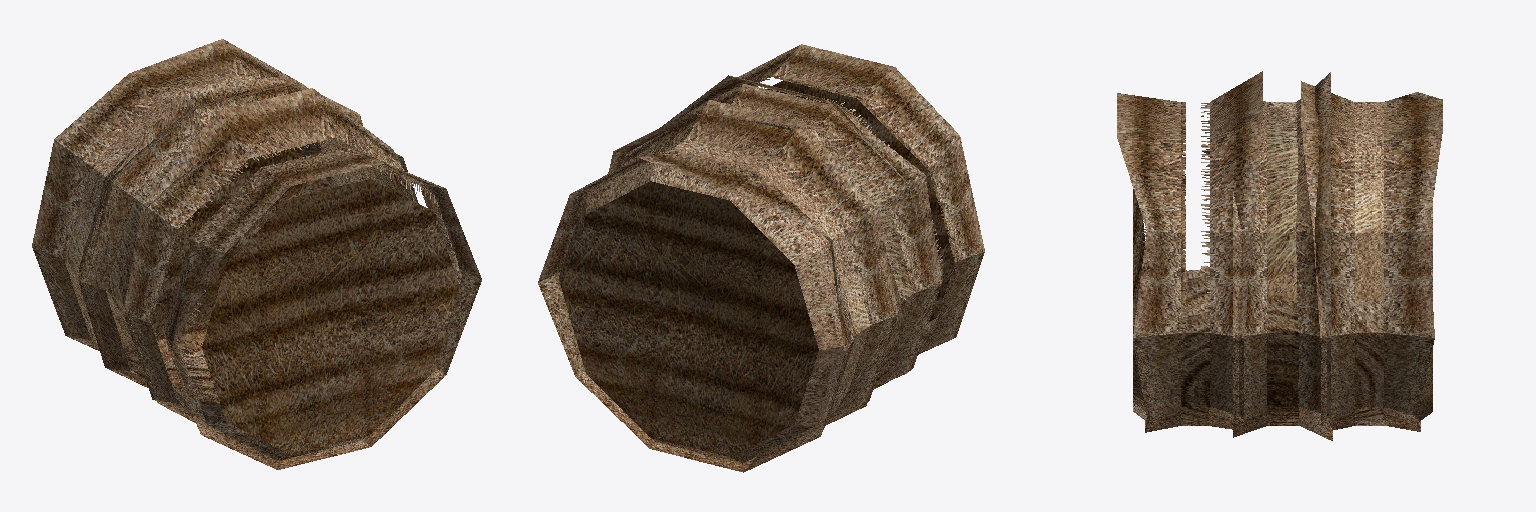
3 views of the same model, side by side, from view 1: azimuth 30°, elevation 25°; view 2: azimuth 150°, elevation 25°; view 3: azimuth 270°, elevation 25° (orthographic).
Visible parts, largest first — view 1: Sphere01_0; view 2: Sphere01_0; view 3: Sphere01_0.
Part boxes in pixels (x1,y1,x2,y2): Sphere01_0: (32, 39, 481, 469); Sphere01_0: (538, 44, 984, 472); Sphere01_0: (1117, 71, 1442, 440).
Size of the model in its own units: 1.5 by 1.53 by 1.39.
1 materials, 1 textured.